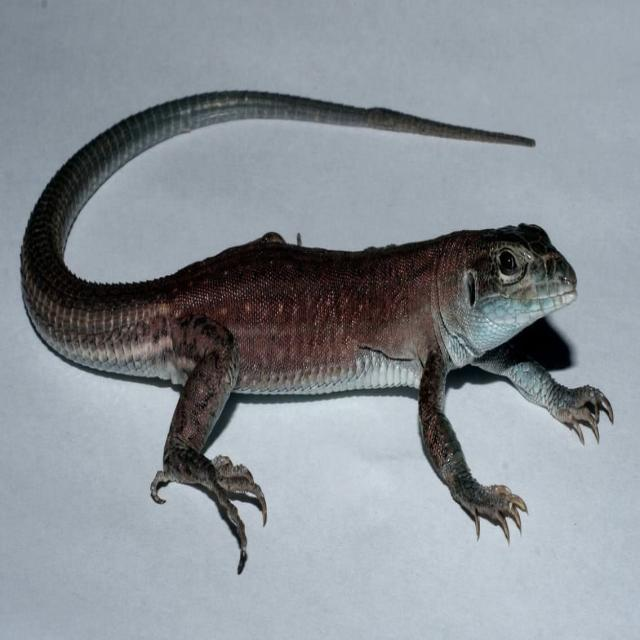lizard: (21, 92, 614, 572)
